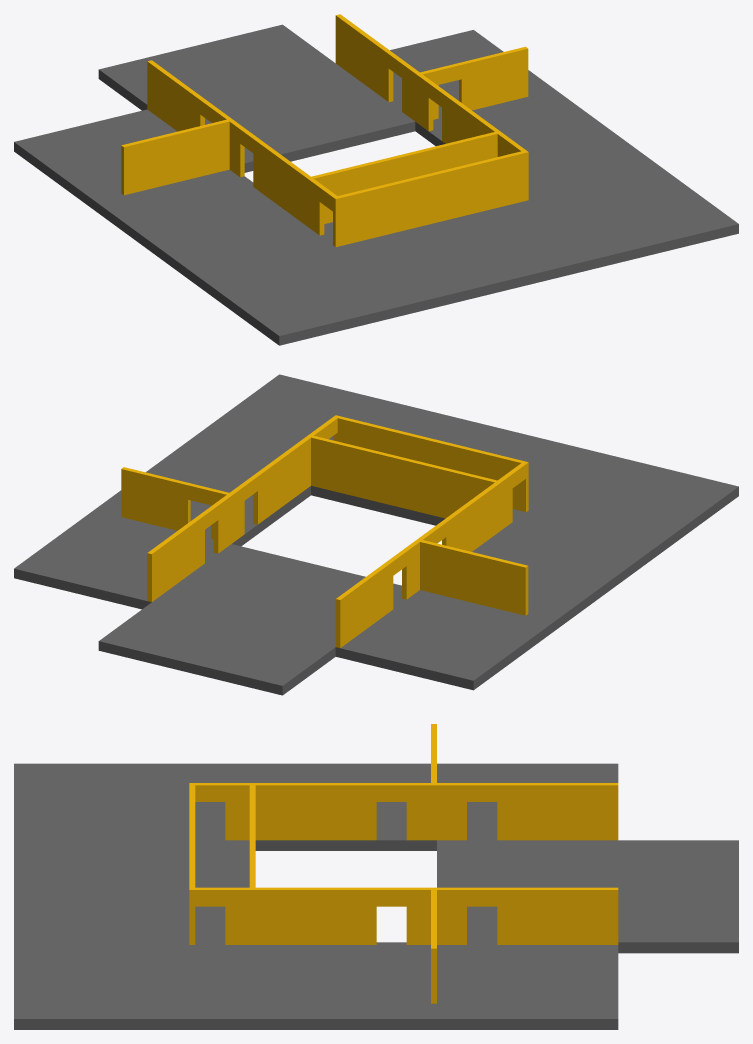
The model's file is commercial.dae.
3 renders of one model, top to bottom at view 1: azimuth 30°, elevation 25°; view 2: azimuth 150°, elevation 25°; view 3: azimuth 270°, elevation 25°, orthographic. The views are drawn at different scales.
Parts seen in each view (by area): view 1: a4dee281-e6ef-4d71-b9d3-67d97e9b9036, a152ae2c-3917-4892-a6a9-b934a0acc0a7; view 2: a4dee281-e6ef-4d71-b9d3-67d97e9b9036, a152ae2c-3917-4892-a6a9-b934a0acc0a7; view 3: a4dee281-e6ef-4d71-b9d3-67d97e9b9036, a152ae2c-3917-4892-a6a9-b934a0acc0a7.
Part boxes in pixels (x1=…): a4dee281-e6ef-4d71-b9d3-67d97e9b9036: x1=14, y1=24, x2=738, y2=345; a152ae2c-3917-4892-a6a9-b934a0acc0a7: x1=121, y1=14, x2=528, y2=247; a4dee281-e6ef-4d71-b9d3-67d97e9b9036: x1=14, y1=374, x2=738, y2=695; a152ae2c-3917-4892-a6a9-b934a0acc0a7: x1=121, y1=415, x2=528, y2=647; a4dee281-e6ef-4d71-b9d3-67d97e9b9036: x1=14, y1=763, x2=738, y2=1029; a152ae2c-3917-4892-a6a9-b934a0acc0a7: x1=189, y1=724, x2=618, y2=1003.
Size of the model in its own units: 10 by 12 by 1.2.
